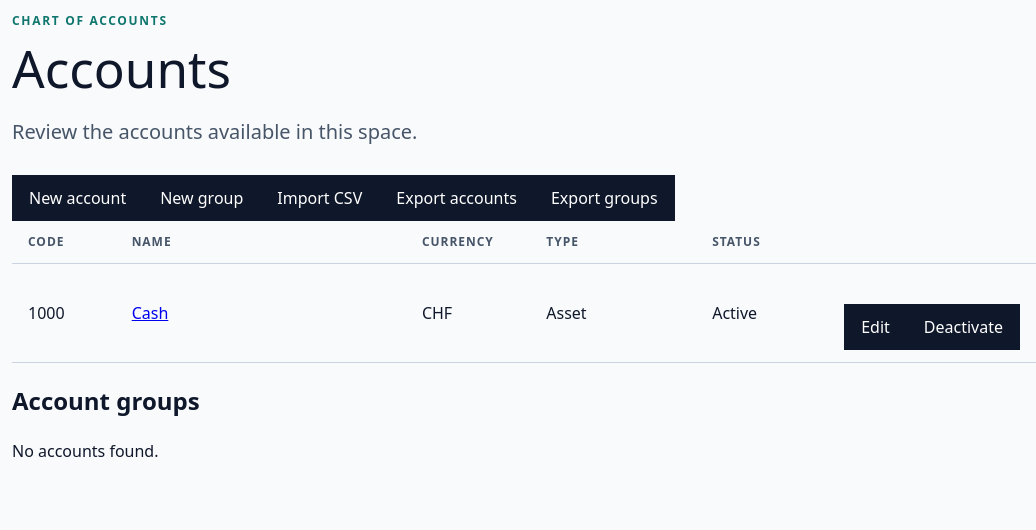
Test: AccountsPage › renders a friendly permission message when export is forbidden
What coordinates should you click on to do the following:
click the button "Export accounts"
I would click on:
 (457, 198)
Its box is 379,175 -> 534,221.
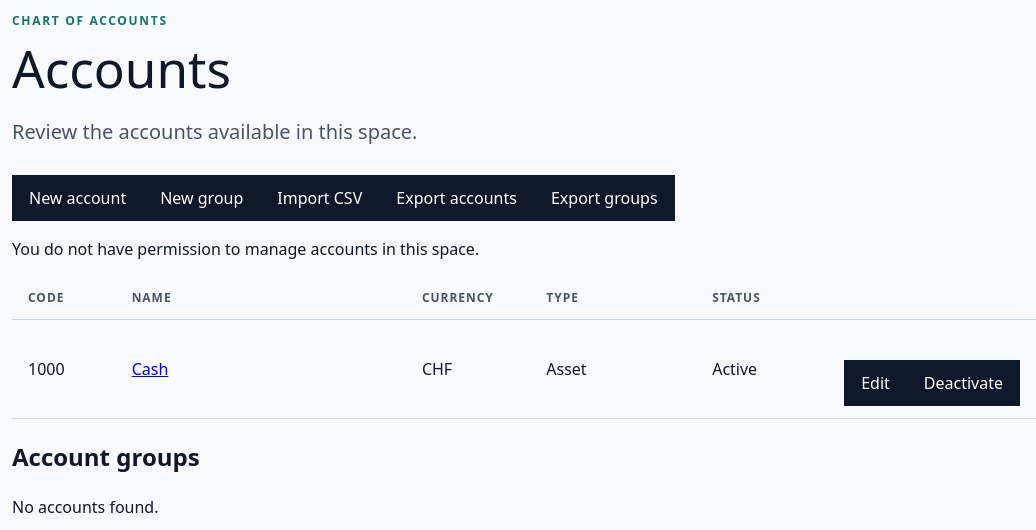
Expected: the message "You do not have permission to manage accounts in this space." is shown, 12,238 -> 479,260
